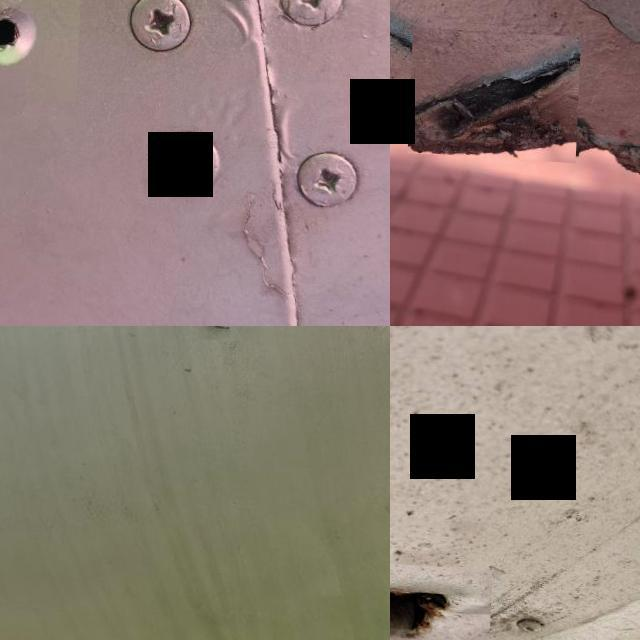Crack: (412, 22, 584, 156), (390, 552, 495, 640)
Missing_Fastener: (0, 0, 83, 98)
